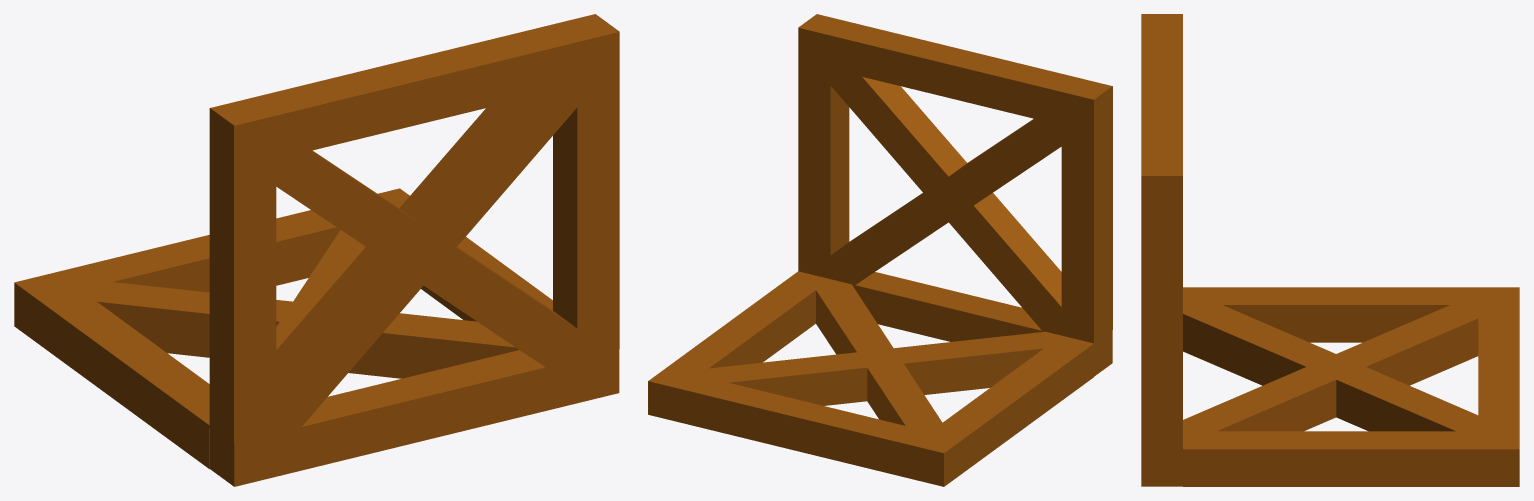
Rendered from mujia.FBX.
The picture shows the model from 3 angles, left to right: view 1: azimuth 30°, elevation 25°; view 2: azimuth 150°, elevation 25°; view 3: azimuth 270°, elevation 25°; orthographic projection. The views are drawn at different scales.
Visible parts, largest first — view 1: mujia; view 2: mujia; view 3: mujia.
Part boxes in pixels (box(x1,y1,x2,y2)): mujia: box(14, 14, 619, 486); mujia: box(648, 14, 1112, 486); mujia: box(1141, 14, 1519, 486).
Size of the model in its own units: 32.02 by 28.67 by 31.63.
